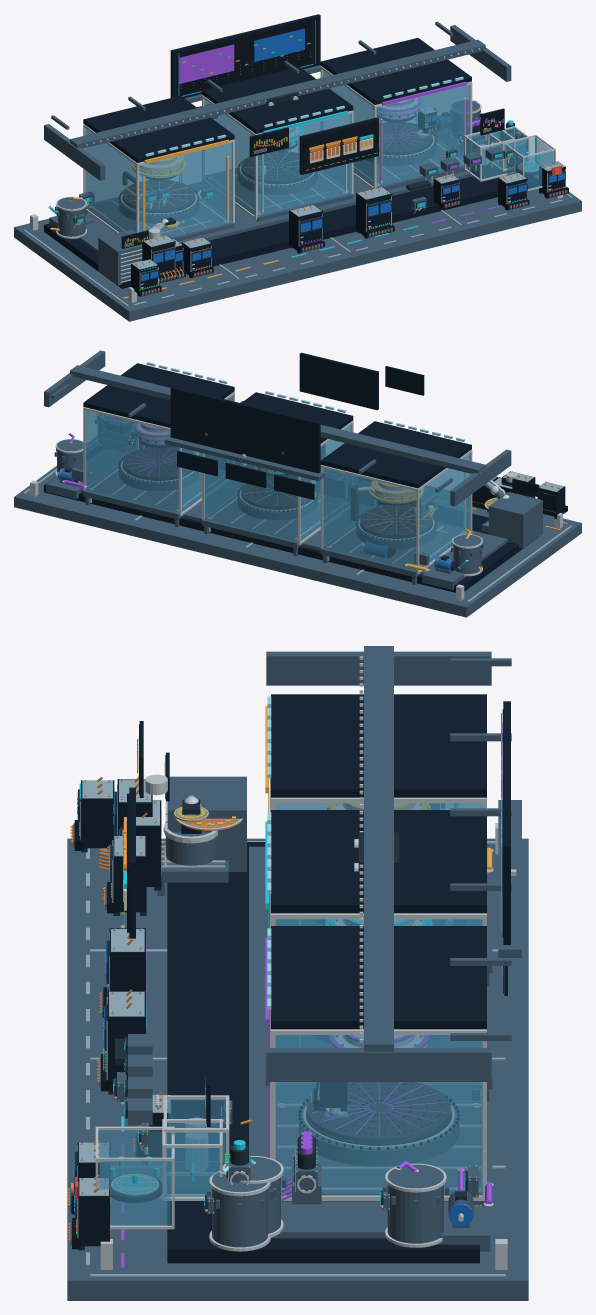
Rendered from Level77_Complete_ArtKit_Showcase.fbx.
3 views of the same model, one above another, from view 1: azimuth 30°, elevation 25°; view 2: azimuth 150°, elevation 25°; view 3: azimuth 270°, elevation 25° (orthographic). The views are drawn at different scales.
Visible parts, largest first — view 1: Level77_Complete_ArtKit_Showcase, Level77_Complete_ArtKit_Showcase_Part_3341, Level77_Complete_ArtKit_Showcase_Part_3342, Level77_Complete_ArtKit_Showcase_Part_1471, Level77_Complete_ArtKit_Showcase_Part_3340, Level77_Complete_ArtKit_Showcase_Part_0601, Level77_Complete_ArtKit_Showcase_Part_1801, Level77_Complete_ArtKit_Showcase_Part_3343, Level77_Complete_ArtKit_Showcase_Part_1404, Level77_Complete_ArtKit_Showcase_Part_0534, Level77_Complete_ArtKit_Showcase_Part_1734, Level77_Complete_ArtKit_Showcase_Part_2257; view 2: Level77_Complete_ArtKit_Showcase, Level77_Complete_ArtKit_Showcase_Part_3340, Level77_Complete_ArtKit_Showcase_Part_0601, Level77_Complete_ArtKit_Showcase_Part_1801, Level77_Complete_ArtKit_Showcase_Part_1471, Level77_Complete_ArtKit_Showcase_Part_1404, Level77_Complete_ArtKit_Showcase_Part_1734, Level77_Complete_ArtKit_Showcase_Part_0534; view 3: Level77_Complete_ArtKit_Showcase, Level77_Complete_ArtKit_Showcase_Part_1801, Level77_Complete_ArtKit_Showcase_Part_1734, Level77_Complete_ArtKit_Showcase_Part_2744, Level77_Complete_ArtKit_Showcase_Part_3340, Level77_Complete_ArtKit_Showcase_Part_0241.
Part boxes in pixels (box(x1,y1,x2,y2)): Level77_Complete_ArtKit_Showcase: box(14, 21, 581, 321); Level77_Complete_ArtKit_Showcase_Part_3341: box(175, 19, 317, 96); Level77_Complete_ArtKit_Showcase_Part_3342: box(179, 44, 234, 83); Level77_Complete_ArtKit_Showcase_Part_1471: box(242, 151, 310, 182); Level77_Complete_ArtKit_Showcase_Part_3340: box(170, 14, 320, 98); Level77_Complete_ArtKit_Showcase_Part_0601: box(123, 180, 194, 211); Level77_Complete_ArtKit_Showcase_Part_1801: box(379, 122, 432, 153); Level77_Complete_ArtKit_Showcase_Part_3343: box(254, 28, 304, 61); Level77_Complete_ArtKit_Showcase_Part_1404: box(238, 162, 317, 194); Level77_Complete_ArtKit_Showcase_Part_0534: box(119, 191, 198, 223); Level77_Complete_ArtKit_Showcase_Part_1734: box(366, 134, 436, 165); Level77_Complete_ArtKit_Showcase_Part_2257: box(482, 110, 503, 134); Level77_Complete_ArtKit_Showcase: box(14, 350, 581, 617); Level77_Complete_ArtKit_Showcase_Part_3340: box(170, 386, 320, 473); Level77_Complete_ArtKit_Showcase_Part_0601: box(360, 505, 432, 537); Level77_Complete_ArtKit_Showcase_Part_1801: box(123, 447, 191, 479); Level77_Complete_ArtKit_Showcase_Part_1471: box(242, 476, 310, 508); Level77_Complete_ArtKit_Showcase_Part_1404: box(238, 487, 317, 519); Level77_Complete_ArtKit_Showcase_Part_1734: box(119, 460, 198, 490); Level77_Complete_ArtKit_Showcase_Part_0534: box(356, 517, 436, 548); Level77_Complete_ArtKit_Showcase: box(67, 646, 528, 1300); Level77_Complete_ArtKit_Showcase_Part_1801: box(307, 1082, 450, 1142); Level77_Complete_ArtKit_Showcase_Part_1734: box(299, 1102, 458, 1166); Level77_Complete_ArtKit_Showcase_Part_2744: box(166, 1148, 218, 1196); Level77_Complete_ArtKit_Showcase_Part_3340: box(503, 701, 510, 944); Level77_Complete_ArtKit_Showcase_Part_0241: box(165, 832, 215, 865).
Bounding box in the file's own units: 2040 × 667 × 900.
